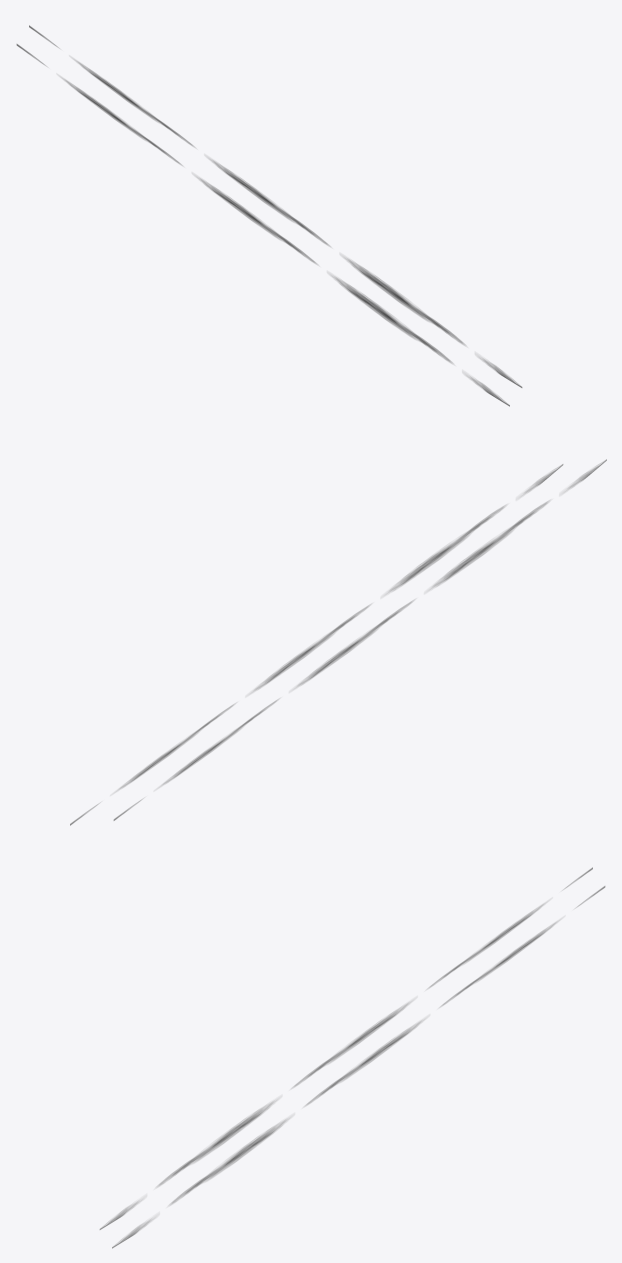
Rendered from airplane_contrail.glb.
3 views of the same model, one above another, from view 1: azimuth 30°, elevation 25°; view 2: azimuth 150°, elevation 25°; view 3: azimuth 330°, elevation 25° (orthographic).
Visible parts, largest first — view 1: clouds.png__; view 2: clouds.png__; view 3: clouds.png__.
Part boxes in pixels (<box>): clouds.png__: <box>16,25,522,406</box>; clouds.png__: <box>70,459,606,825</box>; clouds.png__: <box>99,867,605,1248</box>.
Bounding box in the file's own units: 74.01 × 7.94 × 600.
1 material, 1 textured.
